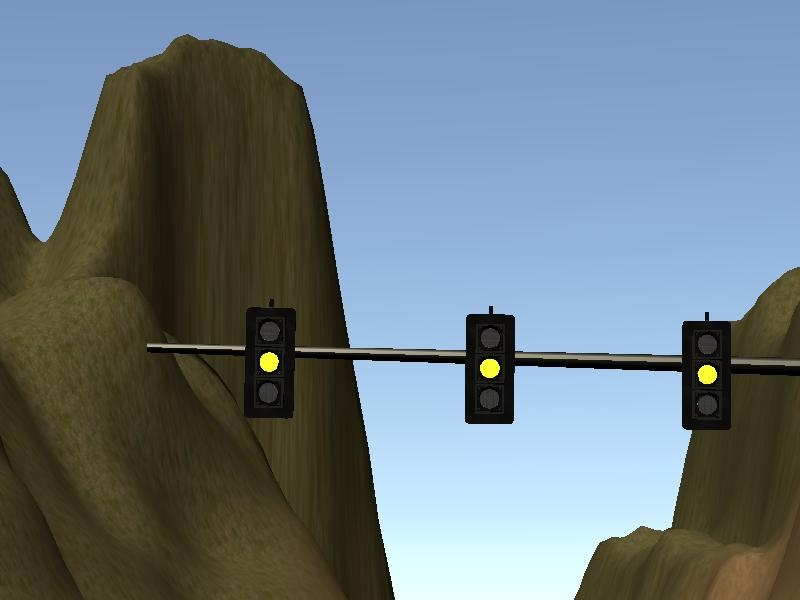YELLOW: (678, 314, 732, 433), (464, 304, 518, 423), (244, 300, 298, 419)
